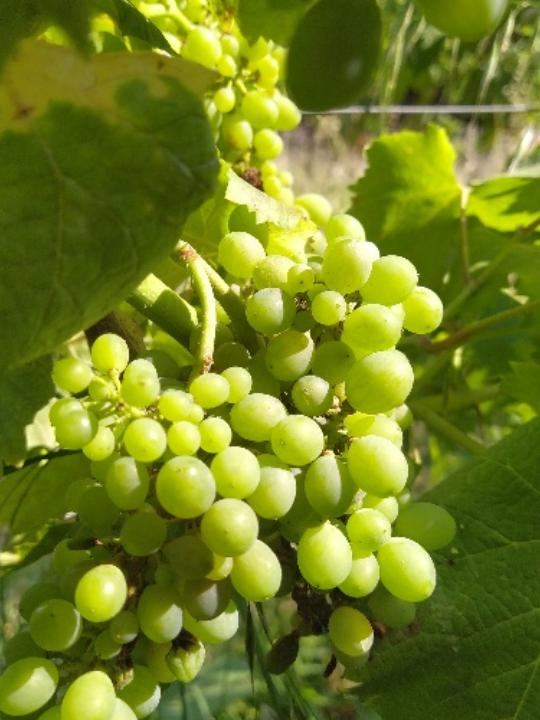grape: (0, 186, 463, 720)
